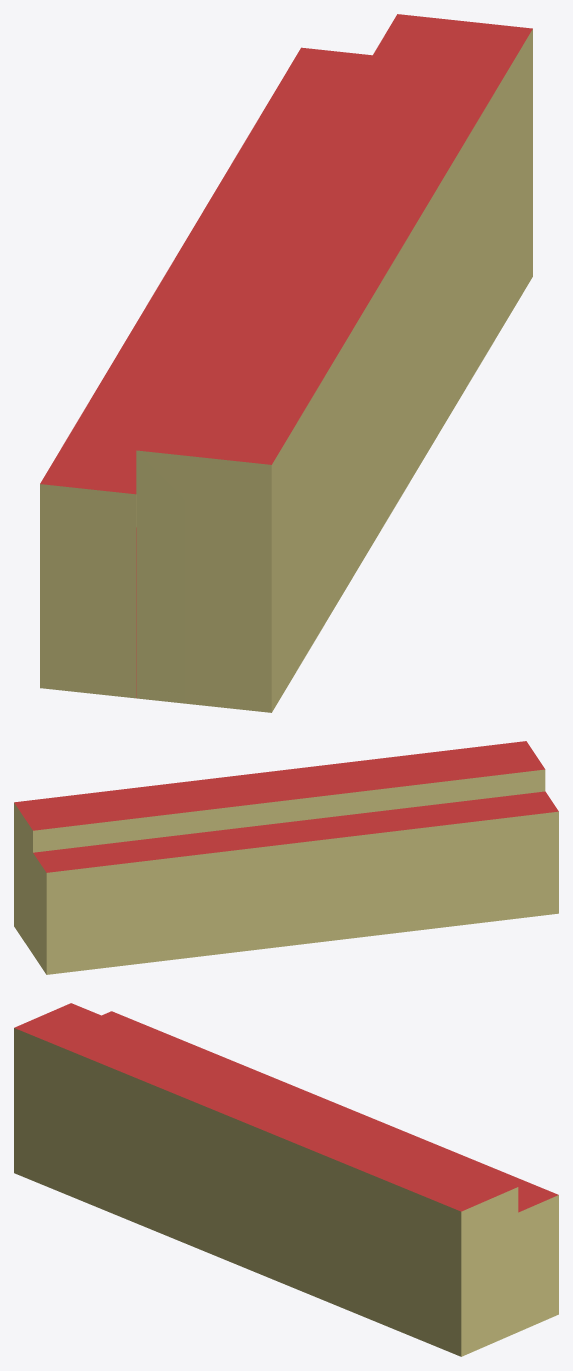
3 renders of one model, top to bottom at view 1: azimuth 30°, elevation 25°; view 2: azimuth 150°, elevation 25°; view 3: azimuth 270°, elevation 25°, orthographic. The views are drawn at different scales.
Visible parts, largest first — view 1: group_4, group_3, group_6, group_7; view 2: group_7, group_3, group_4, group_6; view 3: group_4, group_3, group_7, group_6.
Part boxes in pixels (box(x1,y1,x2,y2)): group_4: box(136, 29, 532, 712); group_3: box(136, 14, 532, 464); group_6: box(40, 47, 372, 494); group_7: box(40, 484, 136, 698); group_7: box(33, 811, 558, 974); group_3: box(14, 741, 545, 830); group_4: box(14, 769, 545, 953); group_6: box(33, 791, 558, 872); group_4: box(14, 1028, 518, 1356); group_3: box(14, 1003, 517, 1211); group_7: box(518, 1195, 558, 1331); group_6: box(102, 1011, 558, 1212).
Size of the model in its own units: 41.66 by 42.4 by 12.47.
